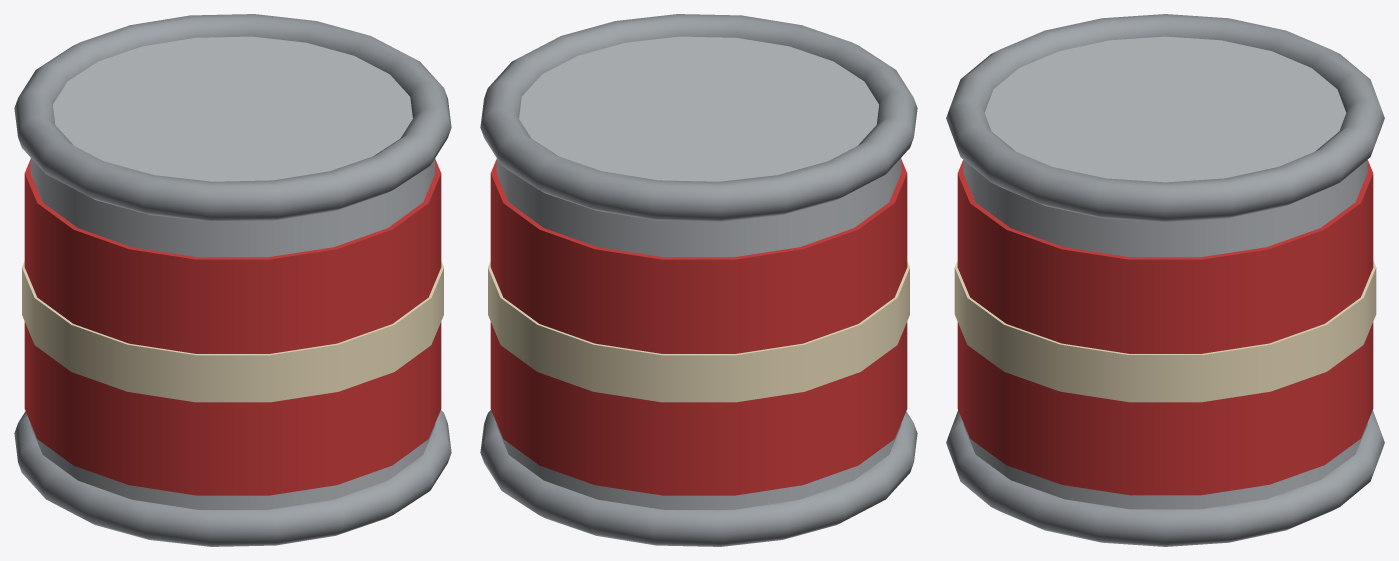
File: item_food.fbx
3 renders of one model, left to right at view 1: azimuth 30°, elevation 25°; view 2: azimuth 150°, elevation 25°; view 3: azimuth 270°, elevation 25°, orthographic.
Parts seen in each view (by area): view 1: M__item_food; view 2: M__item_food; view 3: M__item_food.
Boxes of the visible parts, <box> form: M__item_food: <box>14,14,451,546</box>; M__item_food: <box>480,14,917,546</box>; M__item_food: <box>946,14,1384,546</box>.
Bounding box in the file's own units: 0.152 × 0.1373 × 0.152.
